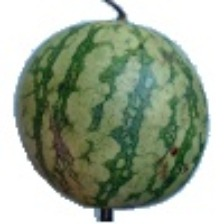watermelon: (11, 33, 189, 224)
